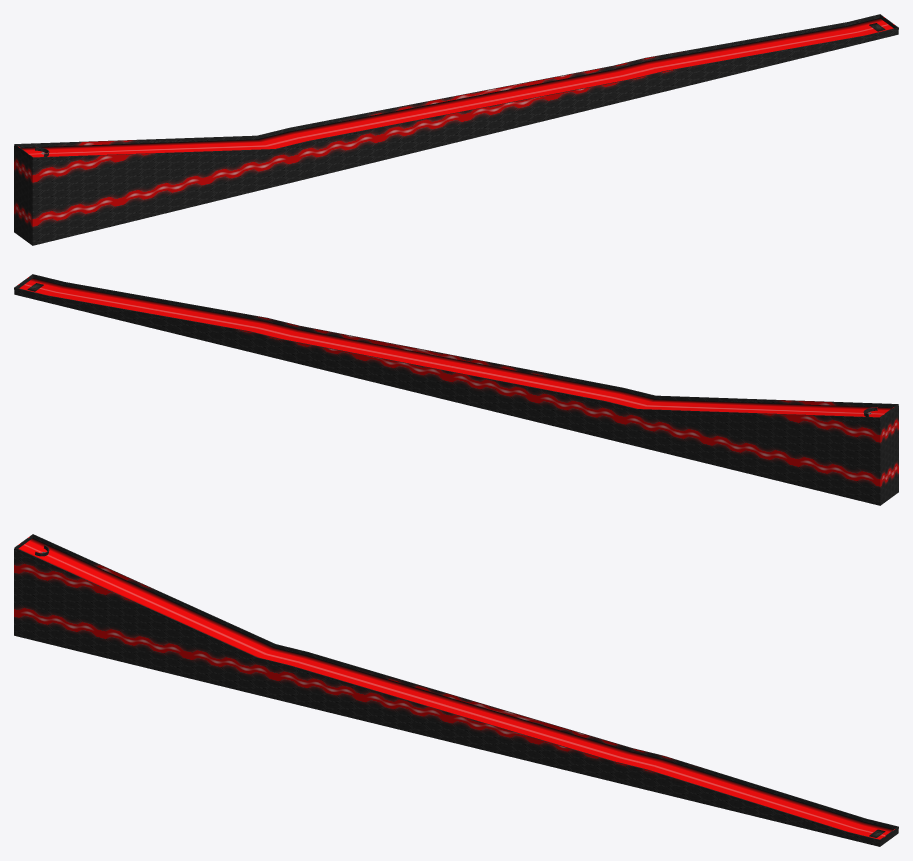
Rendered from Hole_06.FBX.
3 views of the same model, one above another, from view 1: azimuth 30°, elevation 25°; view 2: azimuth 150°, elevation 25°; view 3: azimuth 330°, elevation 25° (orthographic).
Visible parts, largest first — view 1: Hoyo_6; view 2: Hoyo_6; view 3: Hoyo_6.
Boxes of the visible parts, left/top/right/bottom form: Hoyo_6: left=14, top=14, right=898, bottom=245; Hoyo_6: left=14, top=274, right=898, bottom=505; Hoyo_6: left=14, top=534, right=898, bottom=846.
Bounding box in the file's own units: 1070 × 104 × 40.
Materials: 4 (3 with a texture image).
